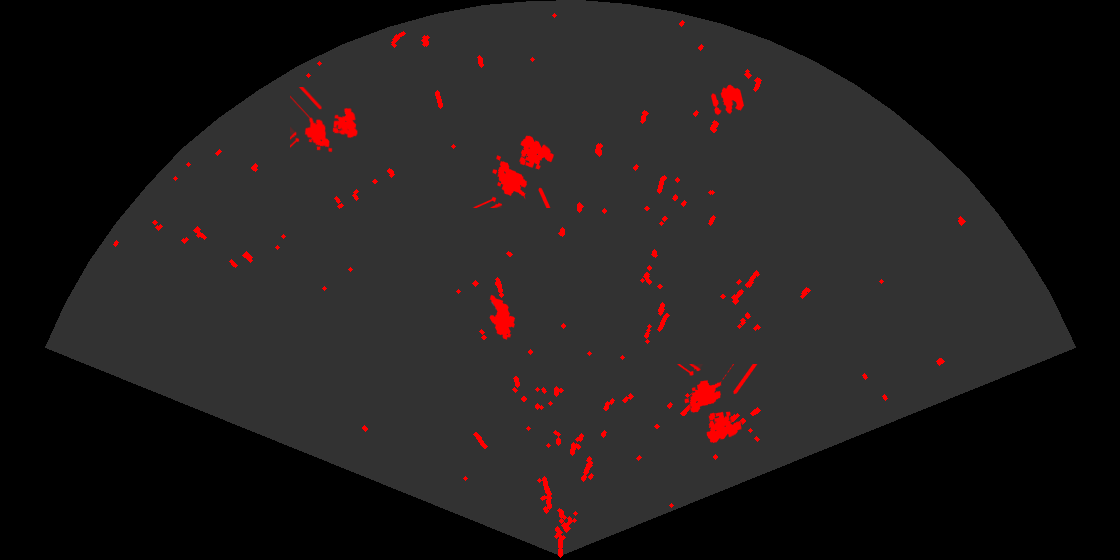AUV: (488, 293, 517, 341)
ball: (709, 83, 746, 117)
cage: (676, 364, 759, 445), (472, 134, 555, 208), (290, 87, 359, 154)
